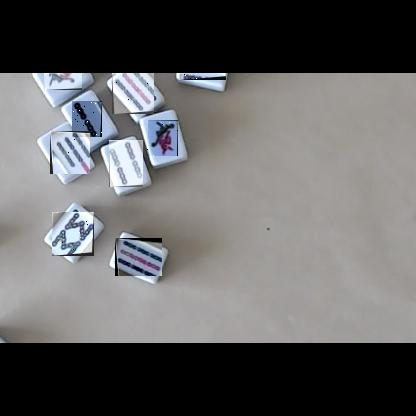1s: (147, 120, 178, 156), (44, 73, 82, 90)
2s: (72, 101, 102, 137)
4s: (109, 140, 143, 187)
5s: (179, 73, 226, 80)
7s: (50, 131, 90, 174)
8s: (52, 212, 94, 256)
9s: (115, 238, 162, 276), (112, 73, 154, 114)
